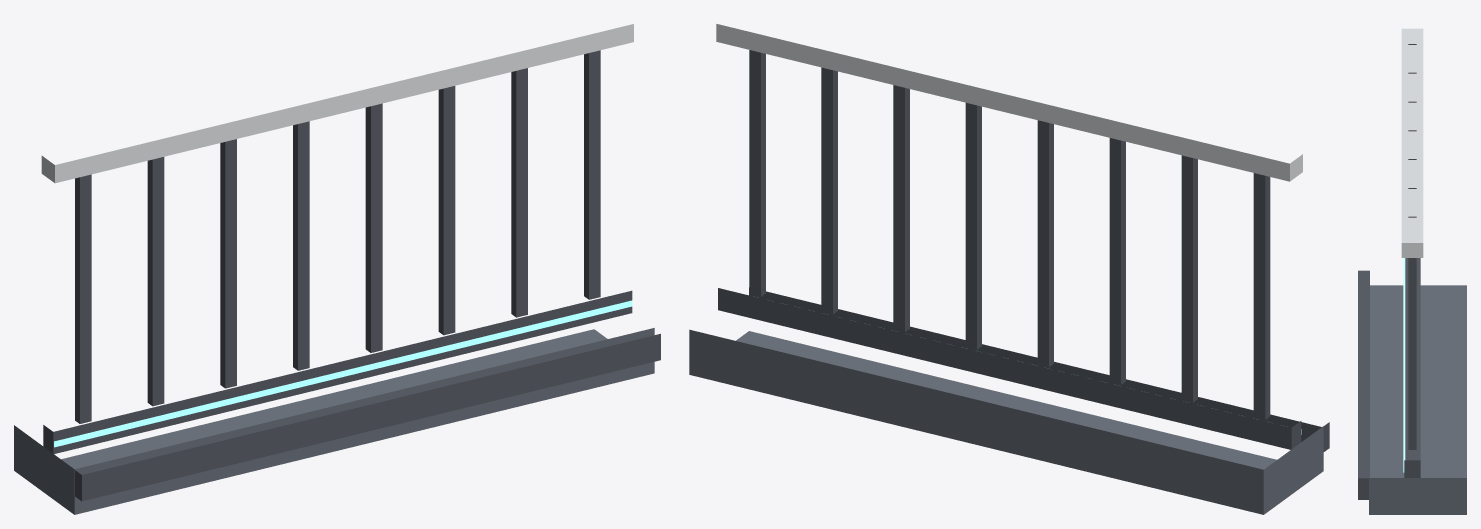
File: ext_canal_edge_04.glb
The picture shows the model from 3 angles, left to right: view 1: azimuth 30°, elevation 25°; view 2: azimuth 150°, elevation 25°; view 3: azimuth 270°, elevation 25°; orthographic projection. The views are drawn at different scales.
Parts seen in each view (by area): view 1: Slats, Coping, Drip_Lip, Top_Rail, Base_Rail, Base_Line; view 2: Coping, Slats, Base_Rail, Top_Rail, Drip_Lip; view 3: Coping, Top_Rail, Drip_Lip, Base_Rail, Slats, Base_Line.
Part boxes in pixels (x1=…): Slats: x1=75, y1=50, x2=600, y2=423; Coping: x1=14, y1=328, x2=654, y2=514; Drip_Lip: x1=75, y1=333, x2=660, y2=501; Top_Rail: x1=41, y1=24, x2=633, y2=183; Base_Rail: x1=43, y1=290, x2=632, y2=453; Base_Line: x1=54, y1=300, x2=632, y2=447; Coping: x1=689, y1=329, x2=1323, y2=514; Slats: x1=749, y1=50, x2=1270, y2=419; Base_Rail: x1=718, y1=288, x2=1301, y2=449; Top_Rail: x1=716, y1=24, x2=1302, y2=181; Drip_Lip: x1=749, y1=287, x2=1329, y2=451; Coping: x1=1369, y1=285, x2=1466, y2=514; Top_Rail: x1=1401, y1=28, x2=1423, y2=257; Drip_Lip: x1=1358, y1=270, x2=1369, y2=499; Base_Rail: x1=1404, y1=258, x2=1420, y2=477; Slats: x1=1408, y1=44, x2=1416, y2=449; Base_Line: x1=1403, y1=258, x2=1405, y2=472.
Size of the model in its own units: 1.99 by 1.1 by 0.4.
